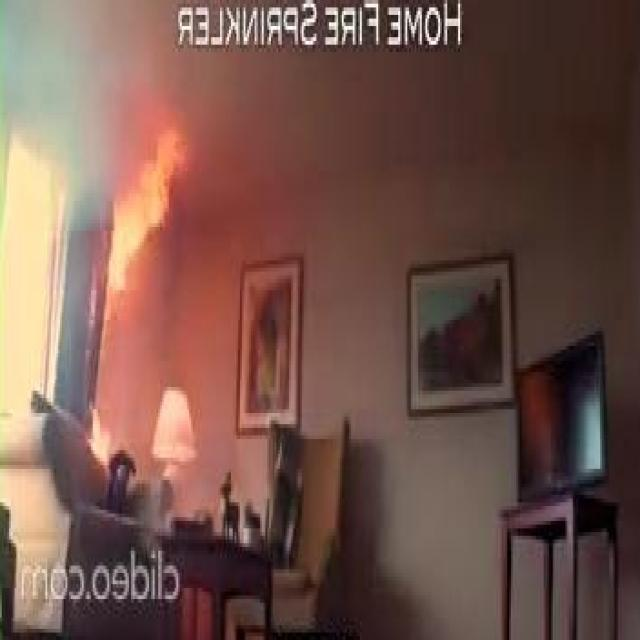smoke: (102, 123, 190, 324), (82, 402, 125, 465)
